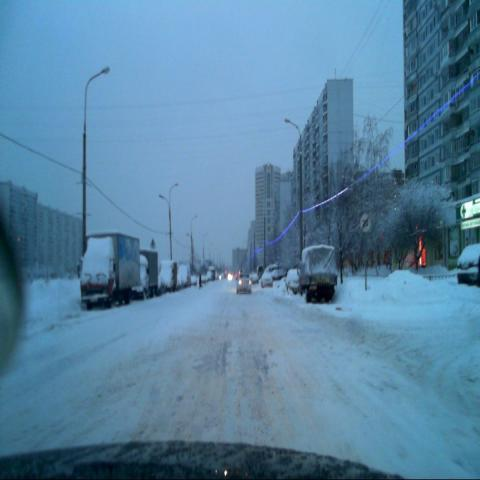3_25: (360, 213, 371, 233)
